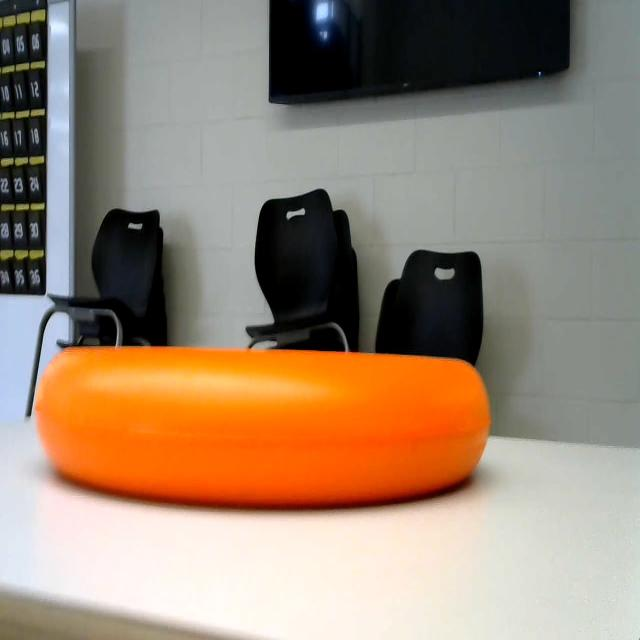note: (29, 328, 507, 515)
